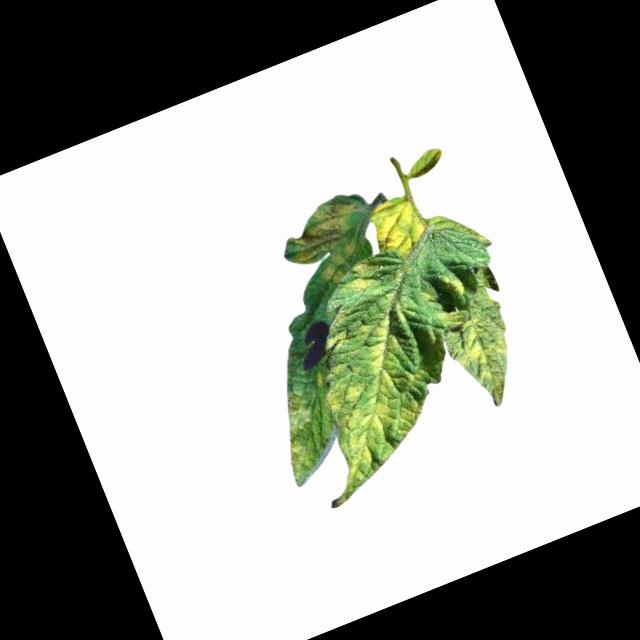Leaf_Mold: (281, 261, 466, 498), (432, 283, 535, 417), (278, 191, 384, 294), (263, 386, 340, 487), (365, 186, 442, 268)
